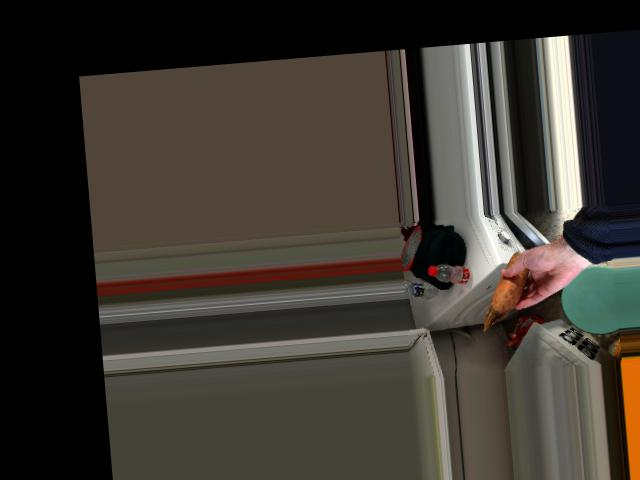sweet_potato: (490, 258, 534, 308)
